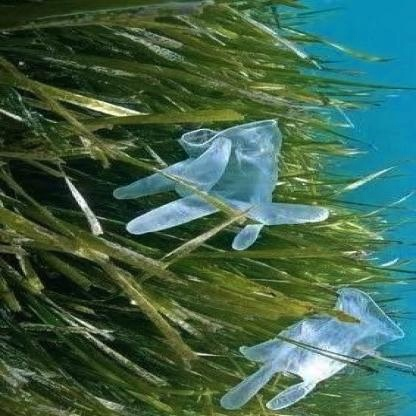glove: (112, 110, 341, 255), (226, 284, 413, 414)
